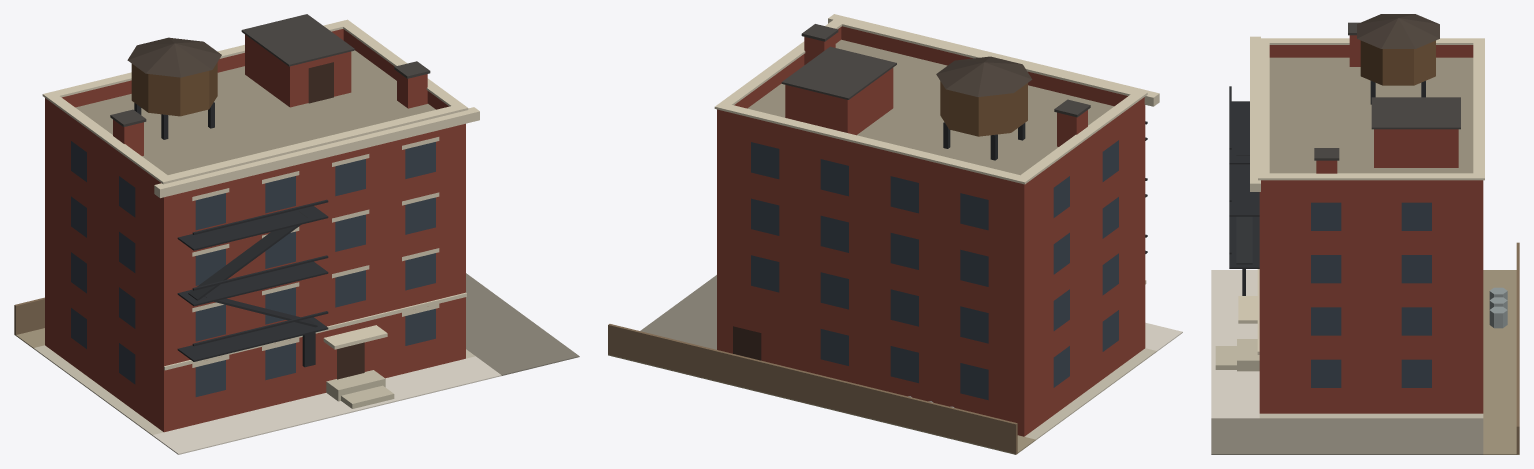
The model's file is terrace_n.glb.
3 views of the same model, side by side, from view 1: azimuth 30°, elevation 25°; view 2: azimuth 150°, elevation 25°; view 3: azimuth 270°, elevation 25° (orthographic). The views are drawn at different scales.
Visible parts, largest first — view 1: terrace_n; view 2: terrace_n; view 3: terrace_n.
Part boxes in pixels (x1,y1,x2,y2): terrace_n: (14, 14, 579, 454); terrace_n: (608, 14, 1182, 454); terrace_n: (1211, 14, 1519, 454).
Bounding box in the file's own units: 24 × 18.04 × 17.
